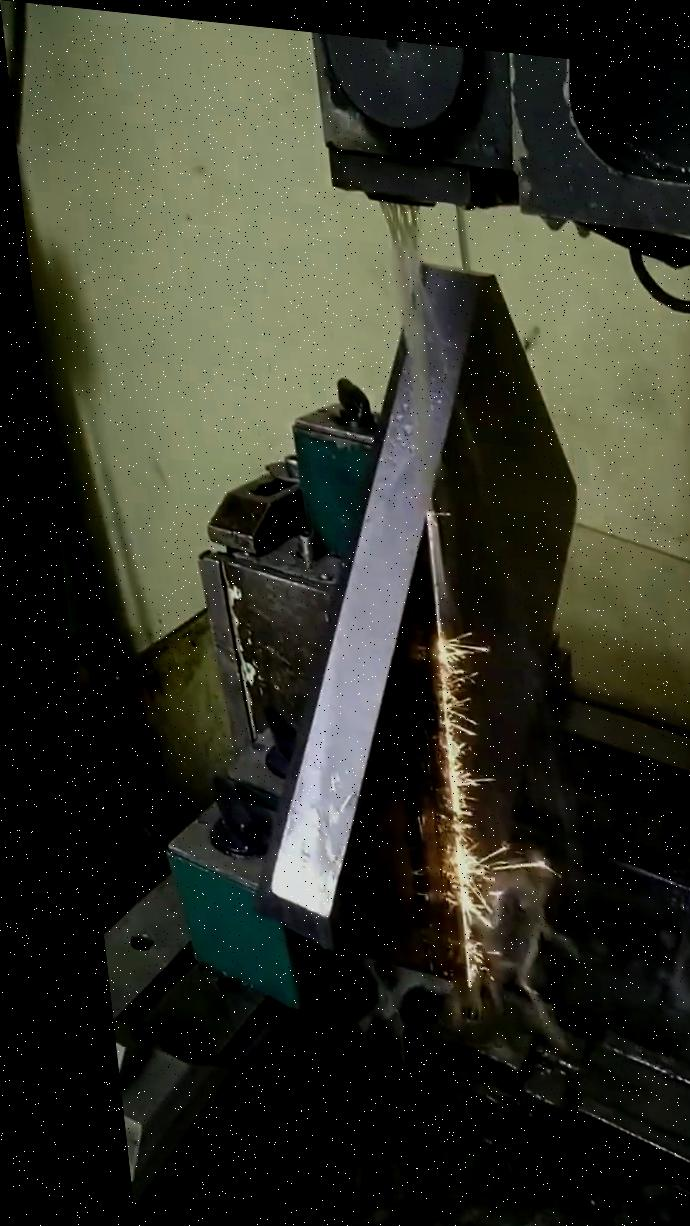fire: (311, 504, 621, 1103)
